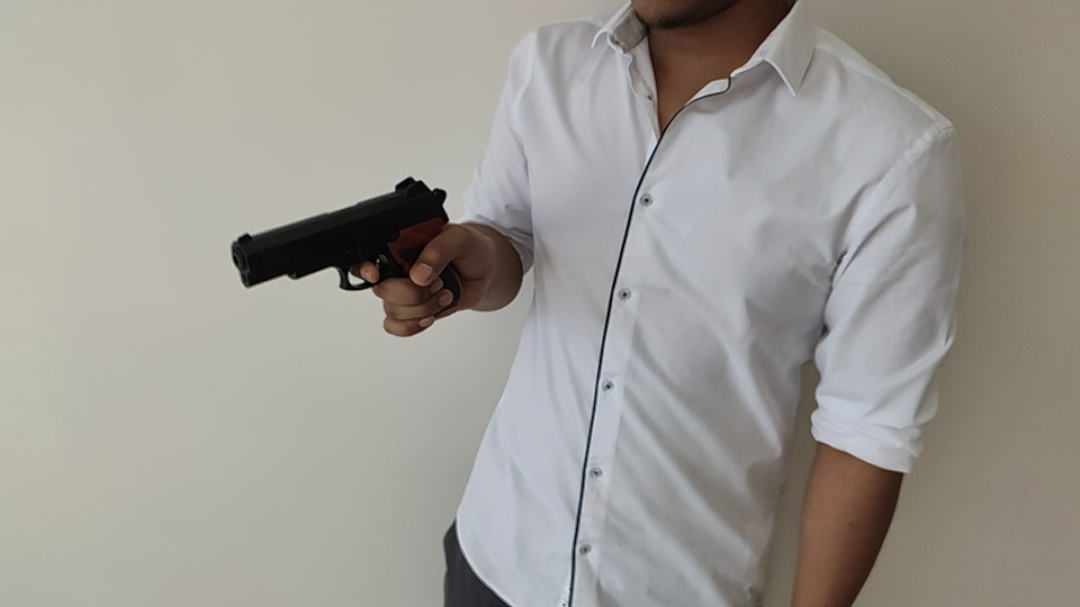gun: (230, 176, 460, 316)
